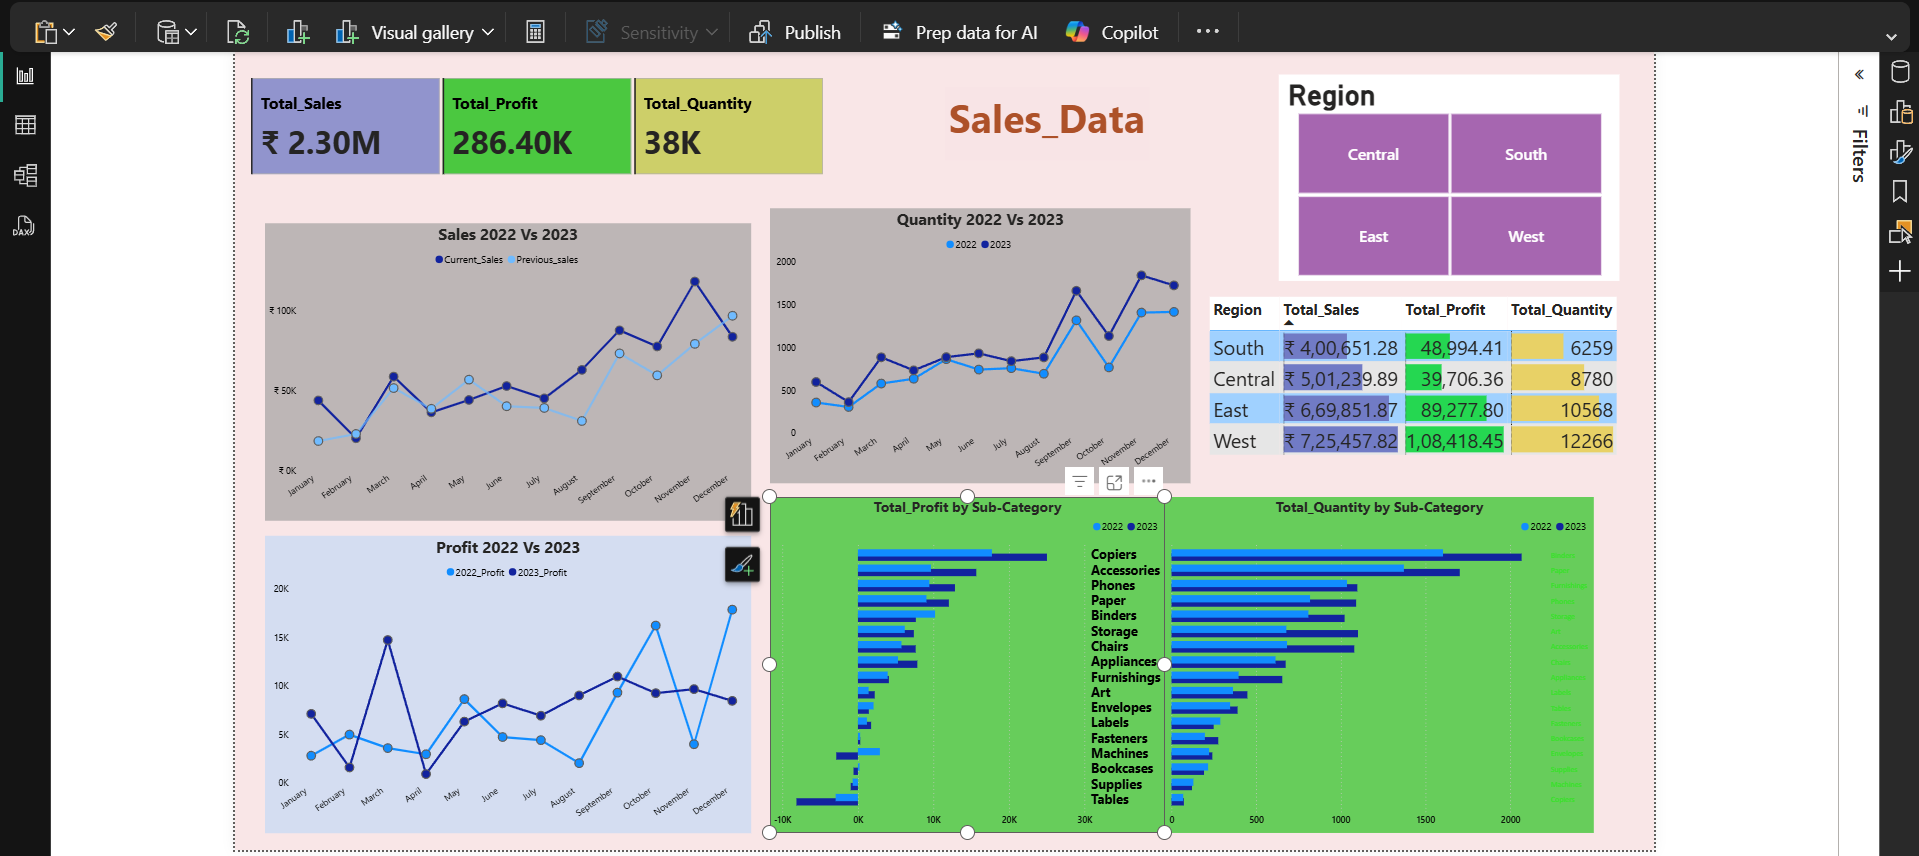

The dashboard page shown, as its layout file describes it:
{"tool":"powerbi","page":{"name":"Page 1","canvas":[1920,1080],"ordinal":0},"visuals":[{"type":"lineChart","title":"Sales 2022 Vs 2023","fields":{"Y":["Orders.Current_Sales","Orders.Previous_sales"],"Category":["Date.Month Name"]},"box":[41.1,231.6,657.9,402.5],"z":0},{"type":"lineChart","title":"Profit 2022 Vs 2023","fields":{"Category":["Date.Month Name"],"Y":["Orders.2022_Profit","Orders.2023_Profit"]},"box":[41.1,653.6,657.9,402.5],"z":1000},{"type":"clusteredBarChart","title":"Total_Profit by Sub-Category ","fields":{"Category":["Products.Sub-Category"],"Series":["Date.Year"],"Y":["Orders.Total_Profit"]},"box":[722.8,601.6,534.5,454.5],"z":2000},{"type":"lineChart","title":"Quantity 2022 Vs 2023","fields":{"Category":["Date.Month Name"],"Y":["Orders.Previous_quantity","Orders.Current_quantity"]},"box":[722.8,212.1,569.2,372.2],"z":3000},{"type":"cardVisual","fields":{"Data":["Orders.Total_Sales","Orders.Total_Profit","Orders.Total_Quantity"]},"box":[17.3,30.3,785.6,140.7],"z":4000},{"type":"tableEx","fields":{"Values":["Location.Region","Orders.Total_Sales","Orders.Total_Profit","Orders.Total_Quantity"]},"box":[1311.5,326.8,577.8,257.5],"z":5000},{"type":"clusteredBarChart","title":"Total_Quantity by Sub-Category ","fields":{"Category":["Products.Sub-Category"],"Series":["Date.Year"],"Y":["Orders.Total_Quantity"]},"box":[1257.4,601.6,580,454.5],"z":6000},{"type":"slicer","fields":{"Values":["Location.Region"]},"box":[1411,30.3,461,279.2],"z":7000},{"type":"textbox","box":[960,47,277,99.6],"z":8000}]}

Visuals, with their boxes on the page's 1920x1080 design canvas (x1, y1, x2, y2). These are canvas units, not pixel positions in the 1919x856 screenshot, which may show the page scaled, cropped or inside an application window:
"Sales 2022 Vs 2023" lineChart: x1=41, y1=232, x2=699, y2=634
"Profit 2022 Vs 2023" lineChart: x1=41, y1=654, x2=699, y2=1056
"Total_Profit by Sub-Category " clusteredBarChart: x1=723, y1=602, x2=1257, y2=1056
"Quantity 2022 Vs 2023" lineChart: x1=723, y1=212, x2=1292, y2=584
cardVisual - Orders.Total_Sales x Orders.Total_Profit: x1=17, y1=30, x2=803, y2=171
tableEx - Location.Region x Orders.Total_Sales: x1=1312, y1=327, x2=1889, y2=584
"Total_Quantity by Sub-Category " clusteredBarChart: x1=1257, y1=602, x2=1837, y2=1056
slicer - Location.Region: x1=1411, y1=30, x2=1872, y2=310
textbox: x1=960, y1=47, x2=1237, y2=147
